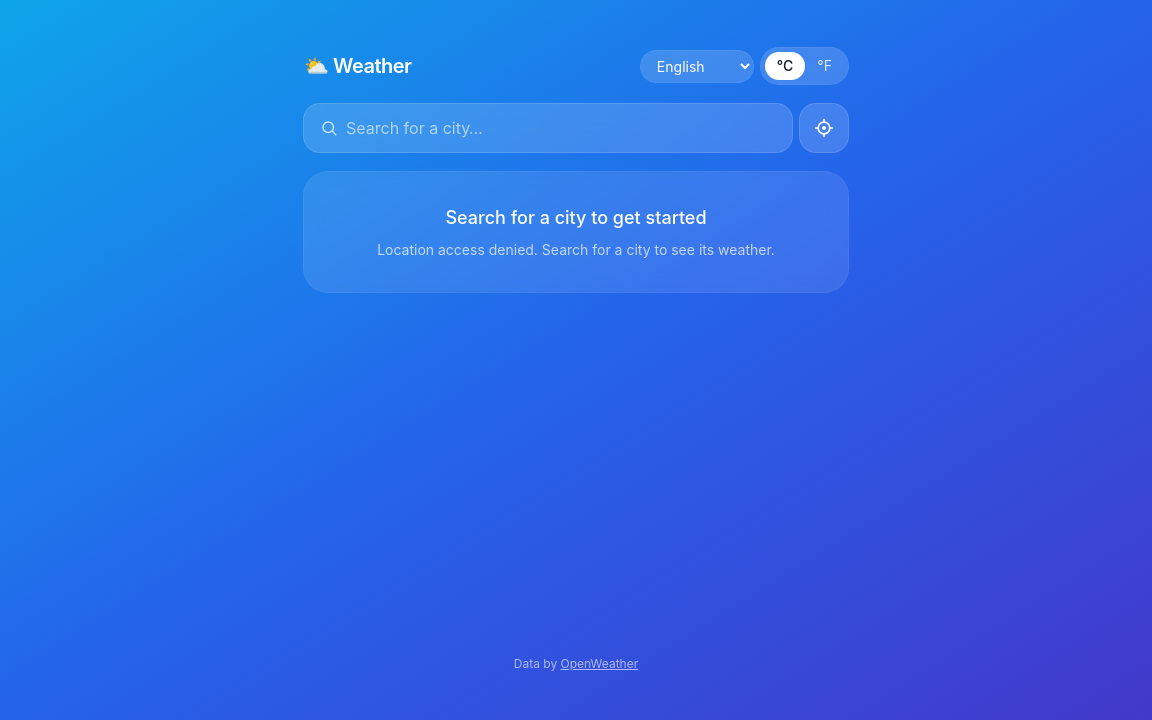
Scenario: App › changes language without refetching when no location is loaded
Check: the text "Search for a city to get started" is shown, box left=445, top=207, right=706, bottom=228
Select "Tiếng Việt" in the dropdown named "Language". click: (697, 66)
box: left=641, top=50, right=753, bottom=82
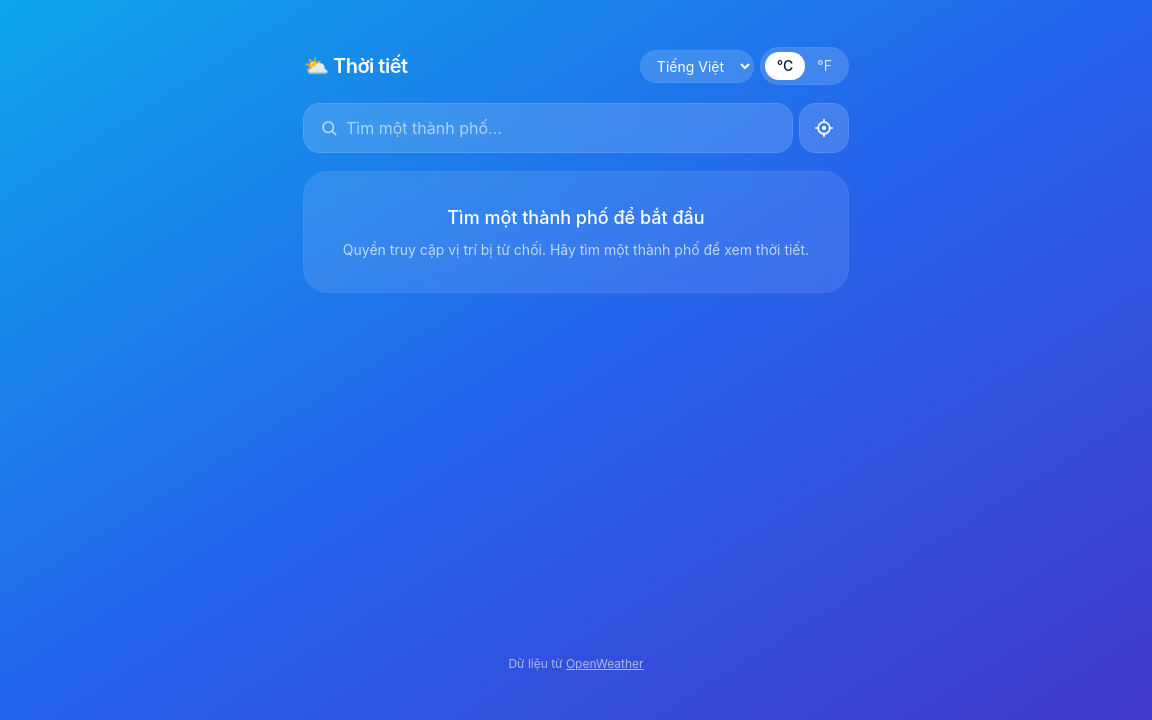
Check: the search field with placeholder "Tìm một thành phố…" is shown, box left=346, top=116, right=776, bottom=140
